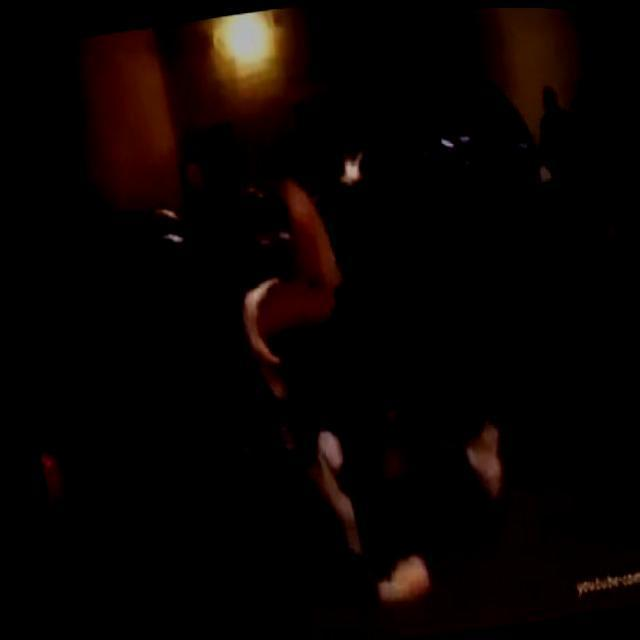fight: (223, 208, 507, 612)
